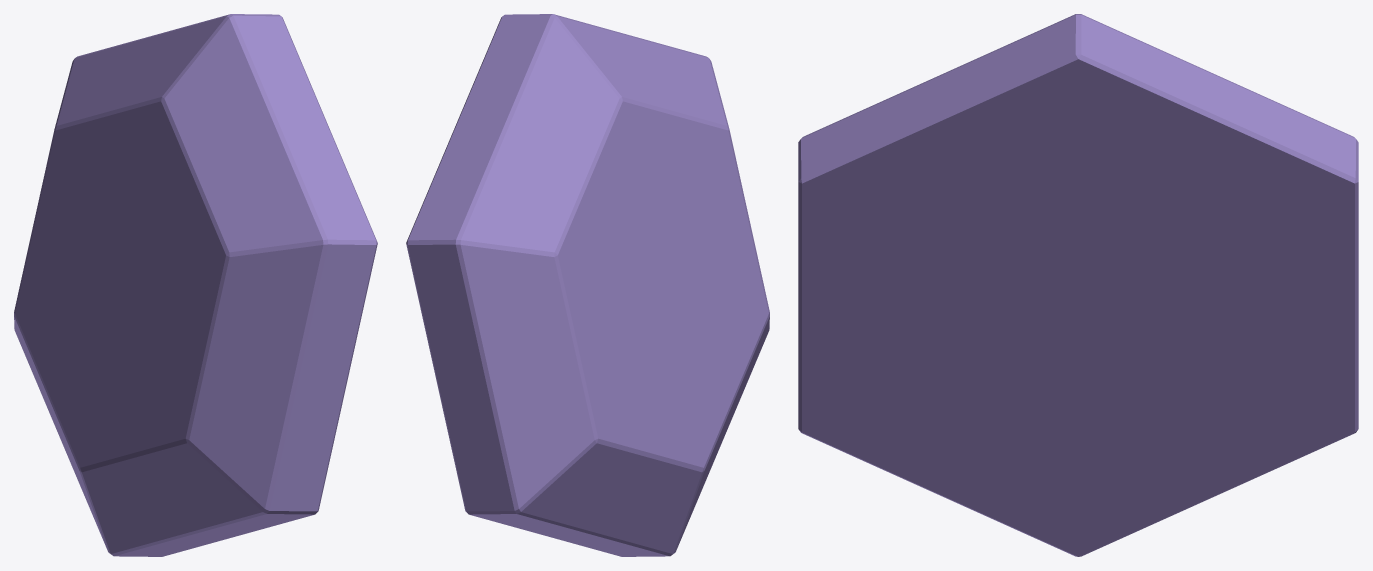
File: D_Jewel.fbx
The picture shows the model from 3 angles, left to right: view 1: azimuth 30°, elevation 25°; view 2: azimuth 150°, elevation 25°; view 3: azimuth 270°, elevation 25°; orthographic projection. The views are drawn at different scales.
Parts seen in each view (by area): view 1: D_Jewel; view 2: D_Jewel; view 3: D_Jewel.
Part boxes in pixels (x1,y1,x2,y2): D_Jewel: (14, 14, 377, 556); D_Jewel: (406, 14, 769, 556); D_Jewel: (798, 14, 1358, 556).
Size of the model in its own units: 2.59 by 6.4 by 5.59.
